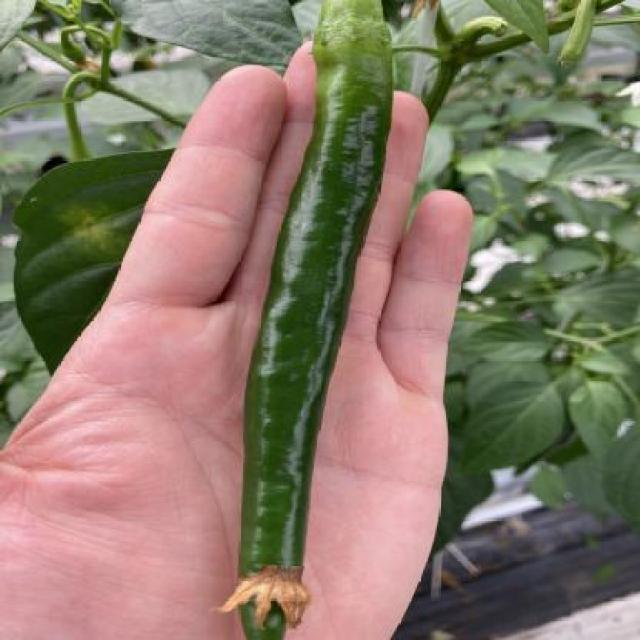green chilli: (238, 37, 394, 640)
